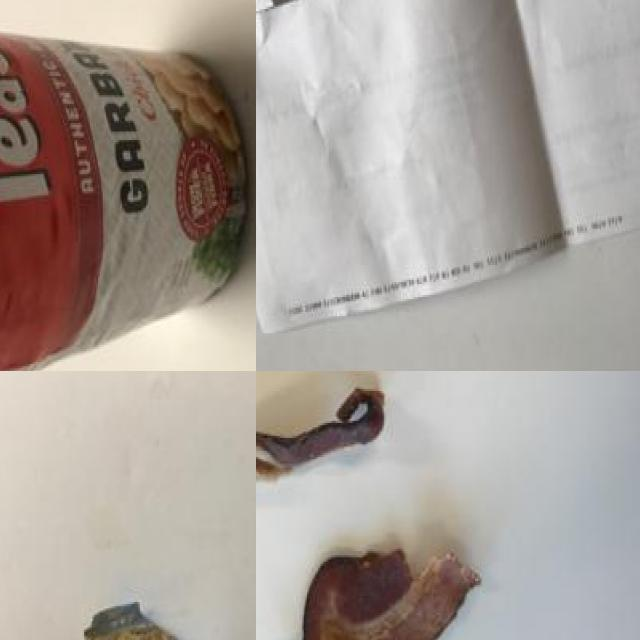compost: (256, 371, 510, 640)
paper: (256, 0, 640, 308)
plastic: (0, 0, 256, 371)
trash: (4, 560, 256, 640)
